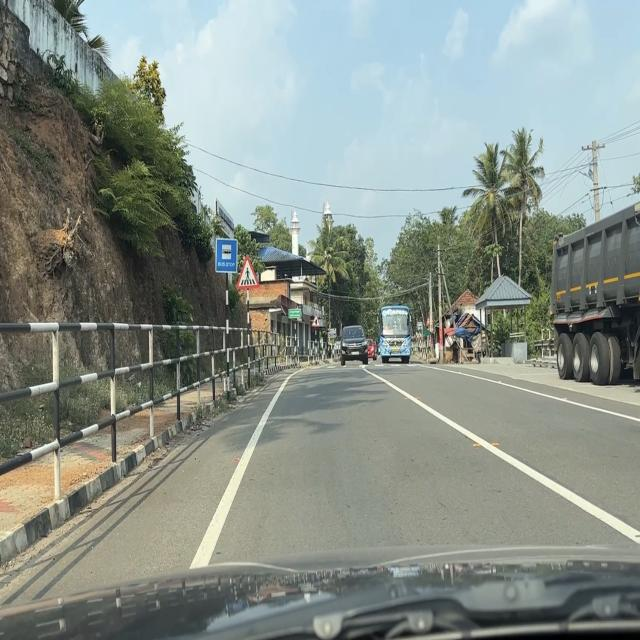GENERAL: (288, 308, 303, 319)
INFORMATION: (215, 238, 238, 273)
PEDESTRIAN_CROSSING: (236, 255, 260, 290)
SIDE_ROAD_LEFT: (311, 314, 321, 328)
